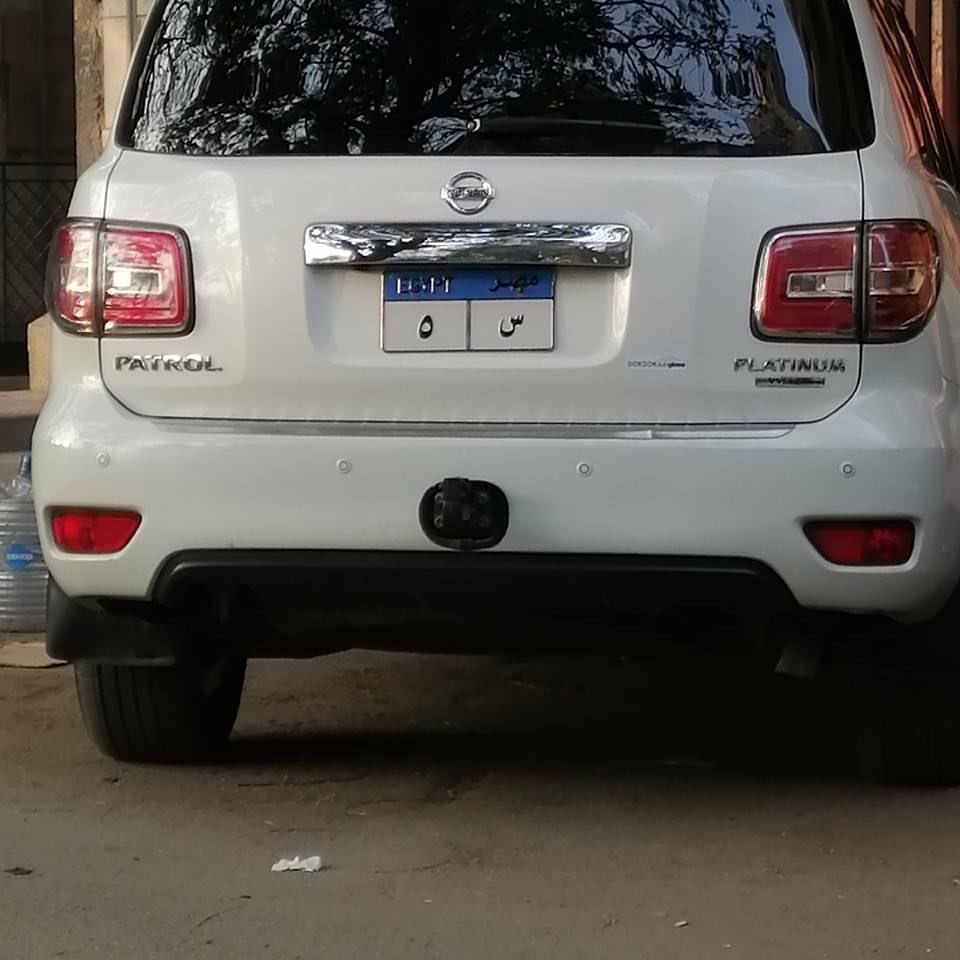carpl: (383, 280, 555, 352)
